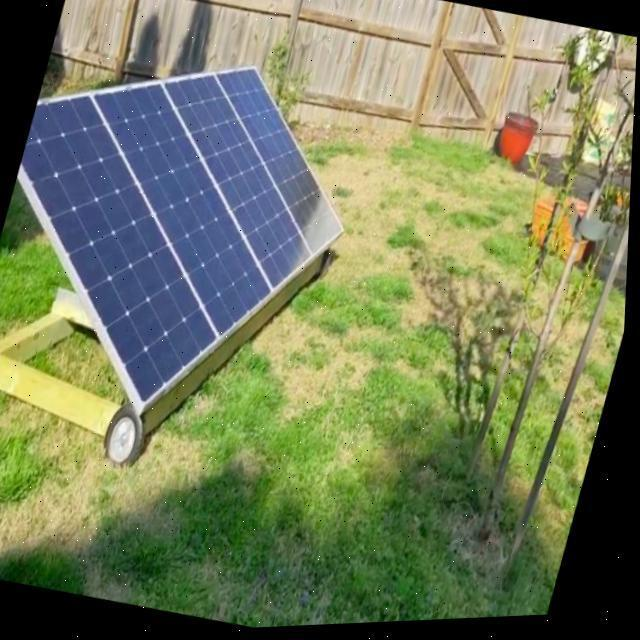Normal Solar Panel: (0, 18, 387, 448)
